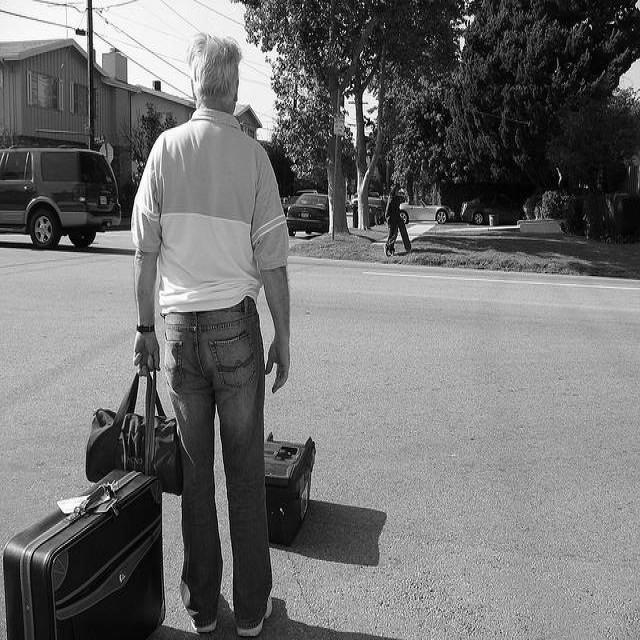vehicle: (1, 143, 129, 253), (287, 193, 329, 237), (399, 199, 457, 225), (284, 190, 318, 211), (460, 201, 489, 225), (369, 197, 387, 225), (351, 195, 358, 207)
